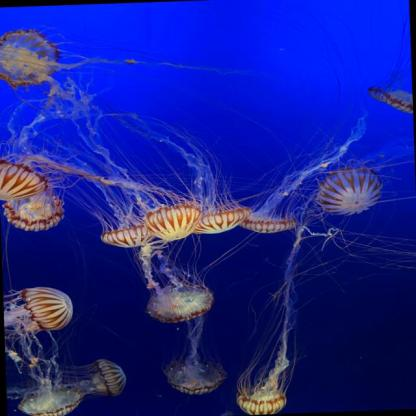jellyfish: (0, 27, 62, 87), (13, 280, 80, 335), (140, 280, 217, 323), (315, 168, 380, 217), (0, 191, 65, 231), (0, 154, 48, 200), (165, 359, 228, 394), (144, 204, 199, 242), (184, 205, 250, 236), (18, 387, 86, 415), (364, 82, 412, 121), (86, 355, 128, 396), (94, 223, 156, 248), (236, 386, 287, 415), (241, 212, 295, 235)
